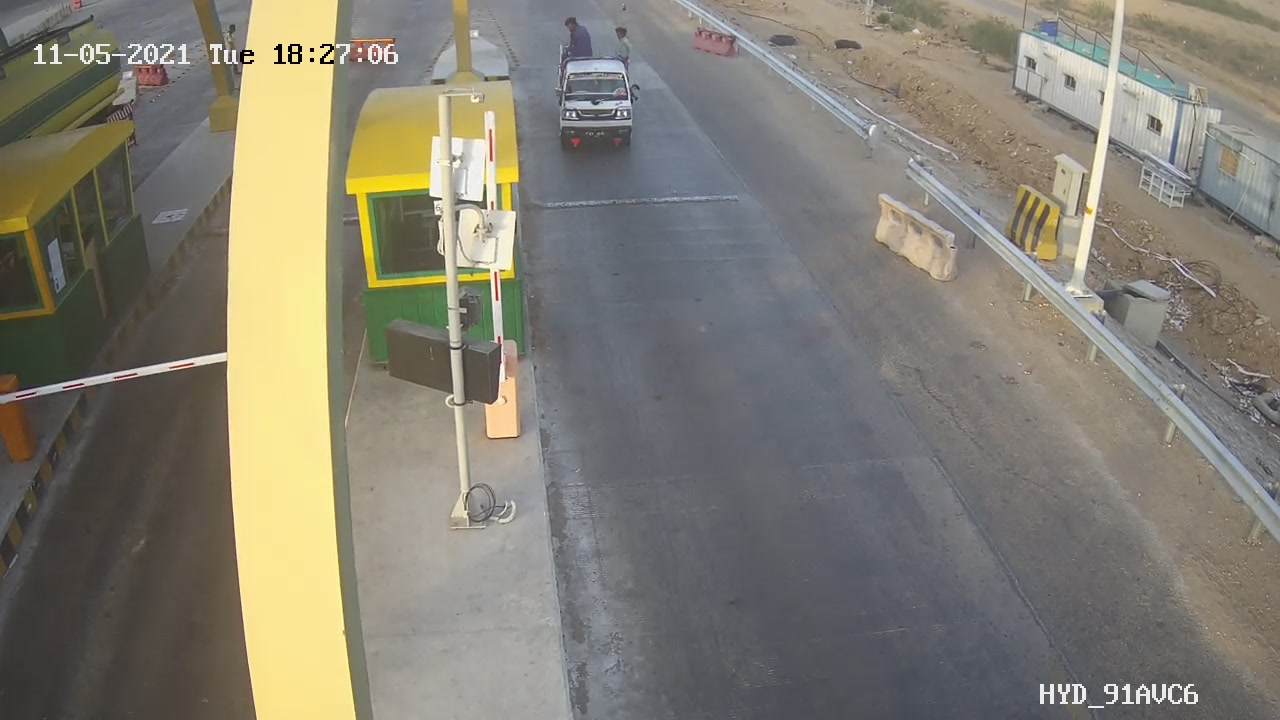F1: (545, 25, 653, 169)
